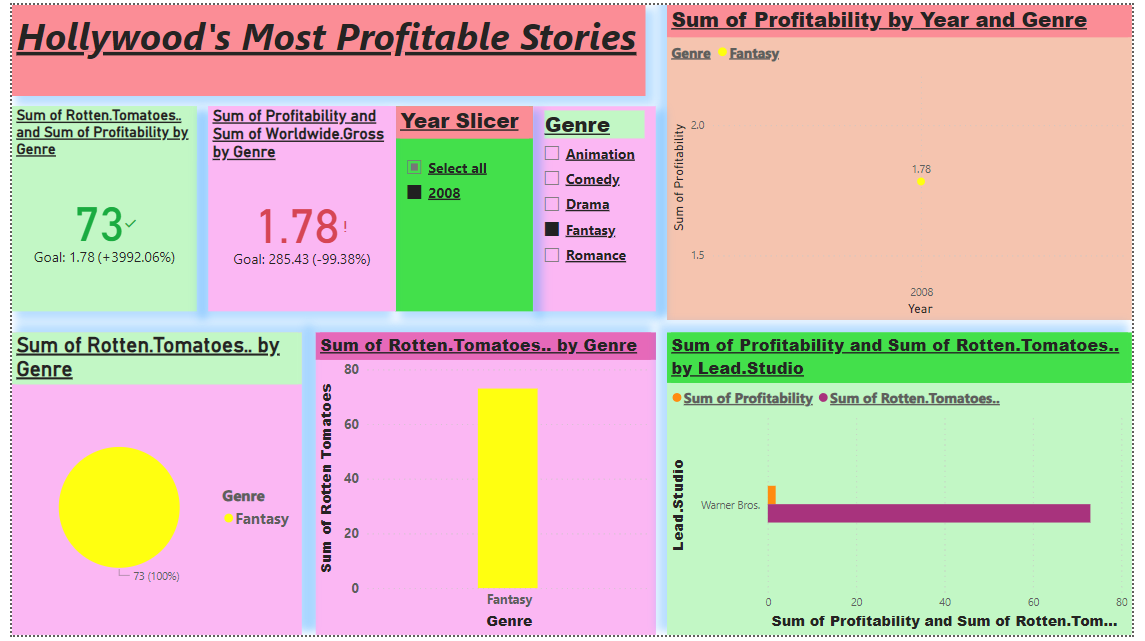

What the dashboard file says about the page in this screenshot:
{"tool":"powerbi","page":{"name":"Hollywoods Most Profitable Stories","canvas":[1280,720],"ordinal":0},"visuals":[{"type":"clusteredColumnChart","fields":{"Category":["clean_df.Genre"],"Y":["Sum(clean_df.Rotten.Tomatoes..)"]},"box":[347.1,374.3,388.6,345.7],"z":0},{"type":"lineChart","fields":{"Category":["clean_df.Year"],"Y":["Sum(clean_df.Profitability)"],"Series":["clean_df.Genre"]},"box":[748.6,0,531.4,360],"z":1},{"type":"textbox","box":[0,0,724.3,104.3],"z":2},{"type":"pieChart","fields":{"Series":["clean_df.Genre"],"Y":["Sum(clean_df.Rotten.Tomatoes..)"]},"box":[0,374.3,331.4,345.7],"z":3},{"type":"slicer","fields":{"Values":["clean_df.Genre"]},"box":[595.7,115.7,140,234.3],"z":4},{"type":"slicer","title":"Year Slicer","fields":{"Values":["clean_df.Year"]},"box":[438.6,115.7,157.1,234.3],"z":5},{"type":"kpi","fields":{"Indicator":["Sum(clean_df.Rotten.Tomatoes..)"],"Goal":["Sum(clean_df.Profitability)"],"TrendLine":["clean_df.Genre"]},"box":[0,115.7,211.4,234.3],"z":6},{"type":"kpi","fields":{"TrendLine":["clean_df.Genre"],"Indicator":["Sum(clean_df.Profitability)"],"Goal":["Sum(clean_df.Worldwide.Gross)"]},"box":[224.3,115.7,214.3,234.3],"z":7},{"type":"clusteredBarChart","fields":{"Category":["clean_df.Lead.Studio"],"Y":["Sum(clean_df.Profitability)","Sum(clean_df.Rotten.Tomatoes..)"]},"box":[748.6,374.3,531.4,345.7],"z":8}]}

Visuals, with their boxes in screenshot pixels (x1, y1, x2, y2), scaled from the page's 1280x720 canvas onto the 1145x641 screenshot:
clusteredColumnChart - clean_df.Genre x Sum(clean_df.Rotten.Tomatoes..): {"x1": 310, "y1": 333, "x2": 658, "y2": 640}
lineChart - clean_df.Year x Sum(clean_df.Profitability): {"x1": 670, "y1": 0, "x2": 1144, "y2": 320}
textbox: {"x1": 0, "y1": 0, "x2": 648, "y2": 93}
pieChart - clean_df.Genre x Sum(clean_df.Rotten.Tomatoes..): {"x1": 0, "y1": 333, "x2": 296, "y2": 640}
slicer - clean_df.Genre: {"x1": 533, "y1": 103, "x2": 658, "y2": 312}
"Year Slicer" slicer: {"x1": 392, "y1": 103, "x2": 533, "y2": 312}
kpi - Sum(clean_df.Rotten.Tomatoes..) x Sum(clean_df.Profitability): {"x1": 0, "y1": 103, "x2": 189, "y2": 312}
kpi - clean_df.Genre x Sum(clean_df.Profitability): {"x1": 201, "y1": 103, "x2": 392, "y2": 312}
clusteredBarChart - clean_df.Lead.Studio x Sum(clean_df.Profitability): {"x1": 670, "y1": 333, "x2": 1144, "y2": 640}
